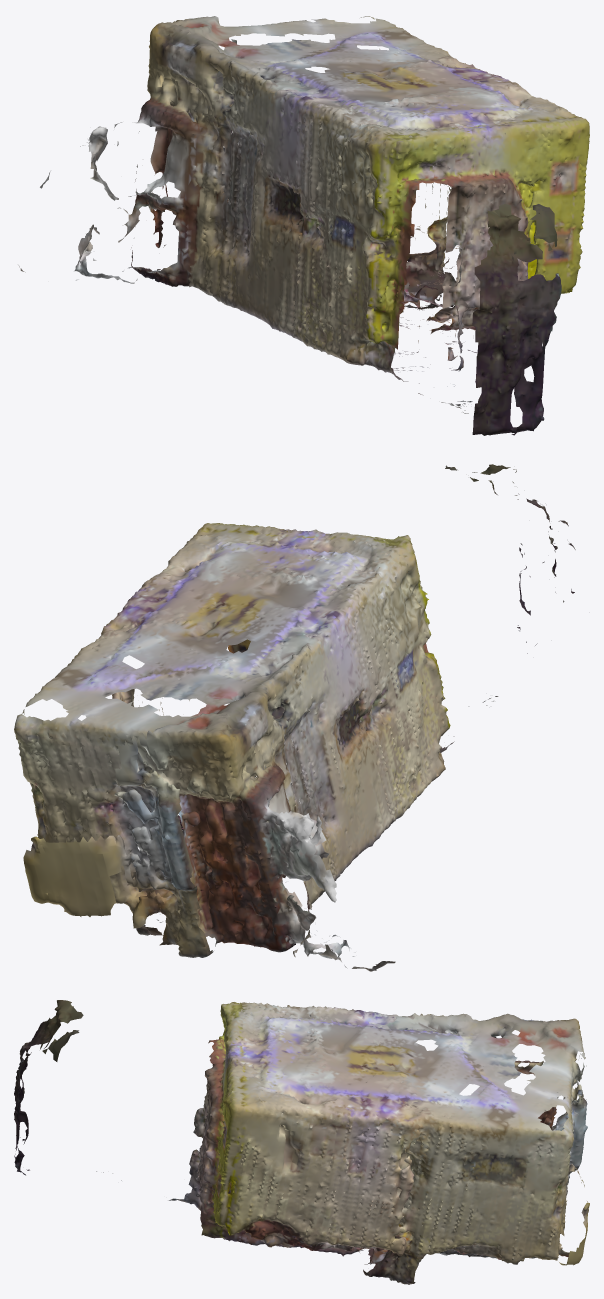
3 views of the same model, one above another, from view 1: azimuth 30°, elevation 25°; view 2: azimuth 150°, elevation 25°; view 3: azimuth 270°, elevation 25° (orthographic). The views are drawn at different scales.
Parts seen in each view (by area): view 1: geometry_0; view 2: geometry_0; view 3: geometry_0.
Part boxes in pixels (x1,y1,x2,y2): geometry_0: (18, 16, 589, 435); geometry_0: (14, 464, 575, 971); geometry_0: (14, 1000, 589, 1284).
Bounding box in the file's own units: 5.17 × 3.54 × 8.18.
